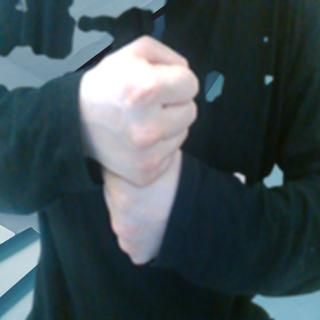CAREFUL: (77, 28, 202, 280)
